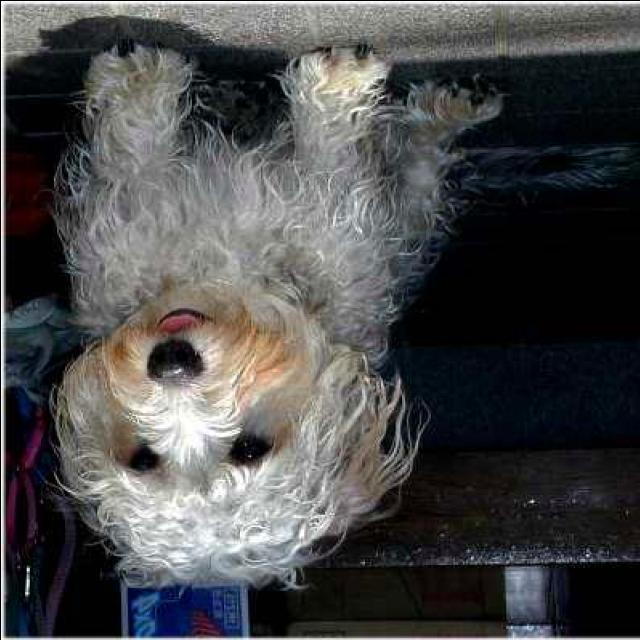dandie_dinmont: (51, 42, 498, 588)
